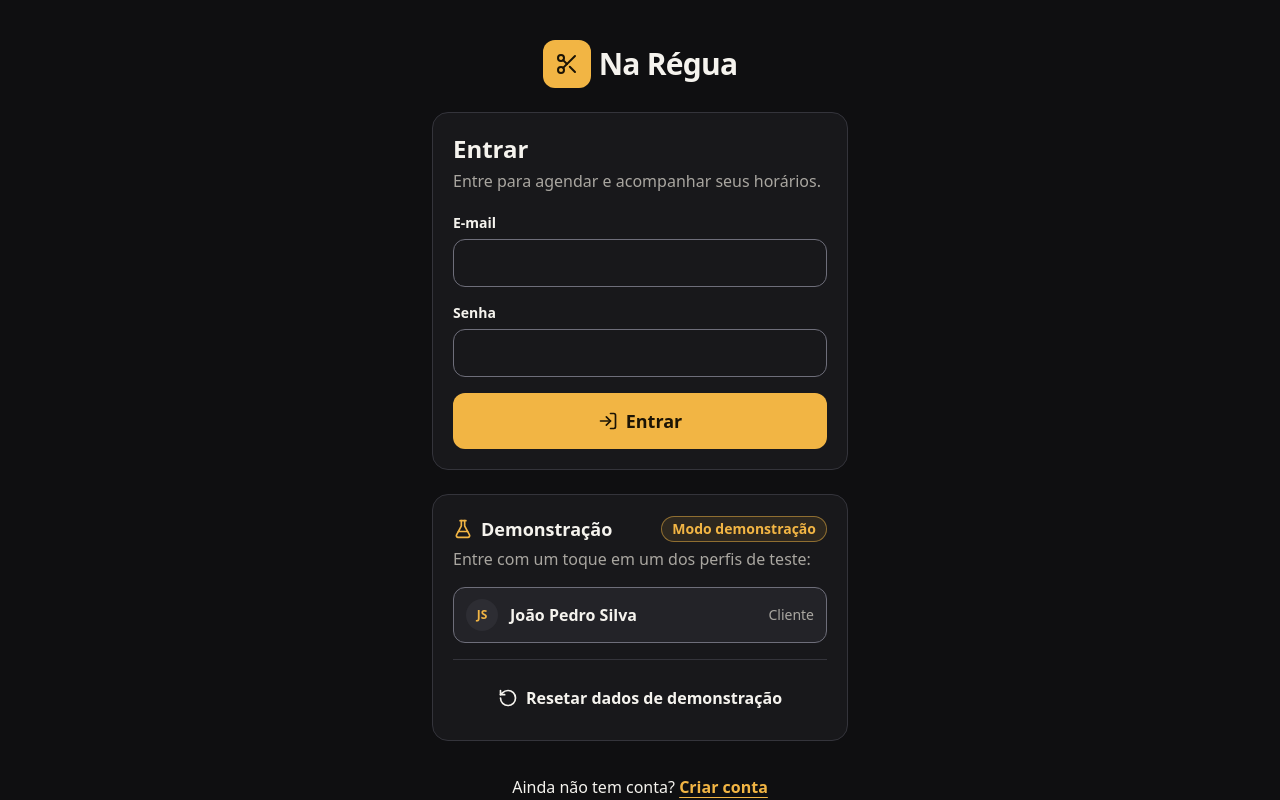
Test: client area access › offers only the client demo account on the client login
Expected: the button "Ricardo Almeida" is not shown
Click the button with aria-label "Entrar como João Pedro Silva (Cliente)": click(482, 615) [453,587,827,643]
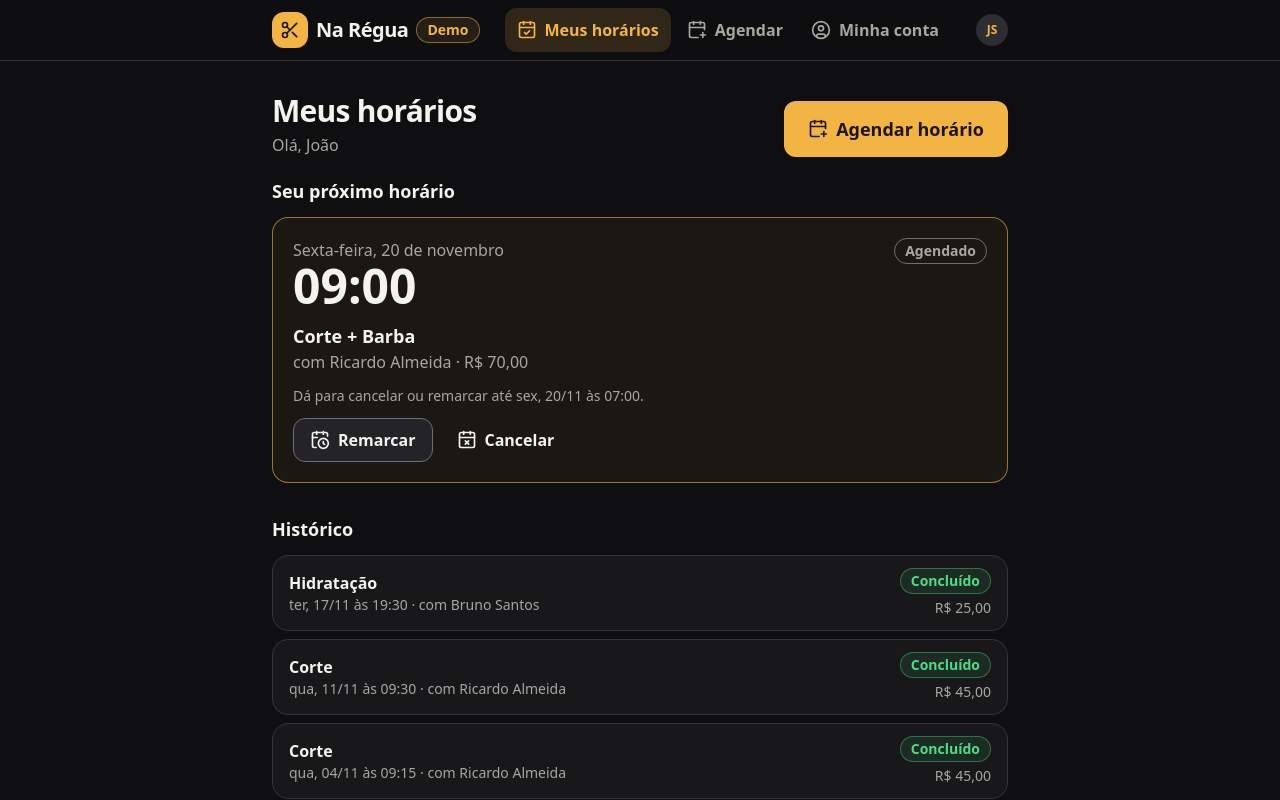
Expected: the heading "Meus horários" is shown, [272,93,476,129]
Expected: the heading "Seu próximo horário" is shown, [272,179,455,203]
